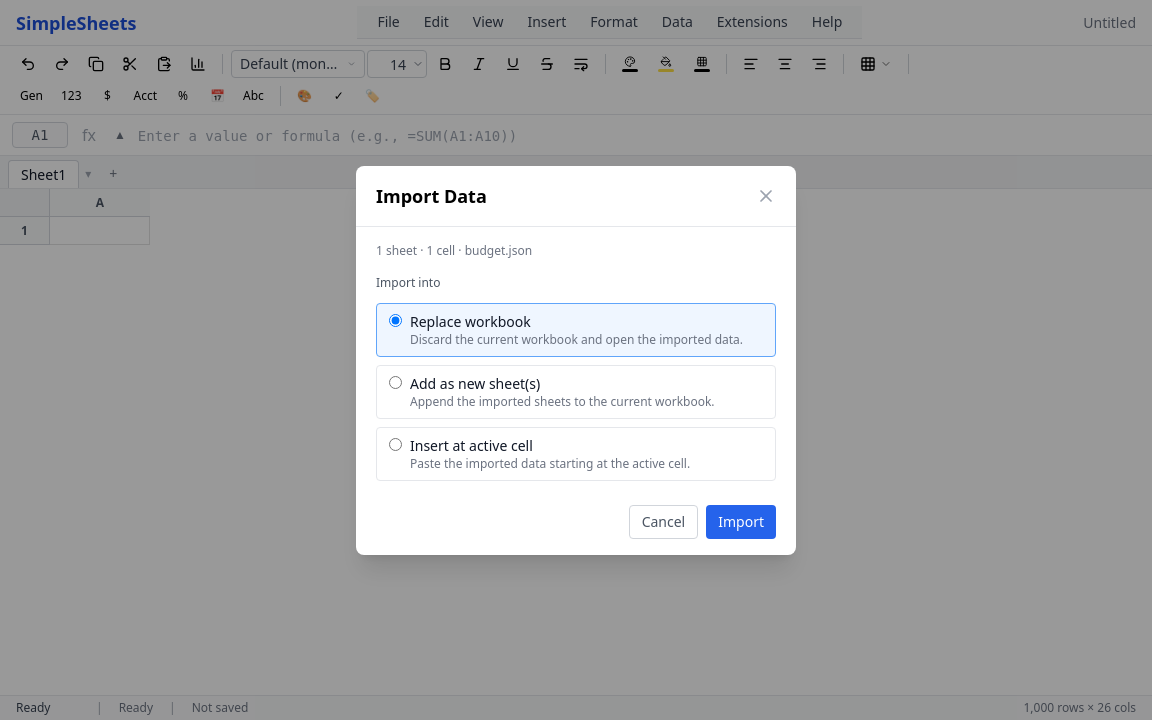
Test: App import scope dialog › replaces the workbook when Replace is chosen
Earlier steps of the test are not shown.
Click the button "Import". click: click(741, 522)
box: [706,504,776,538]
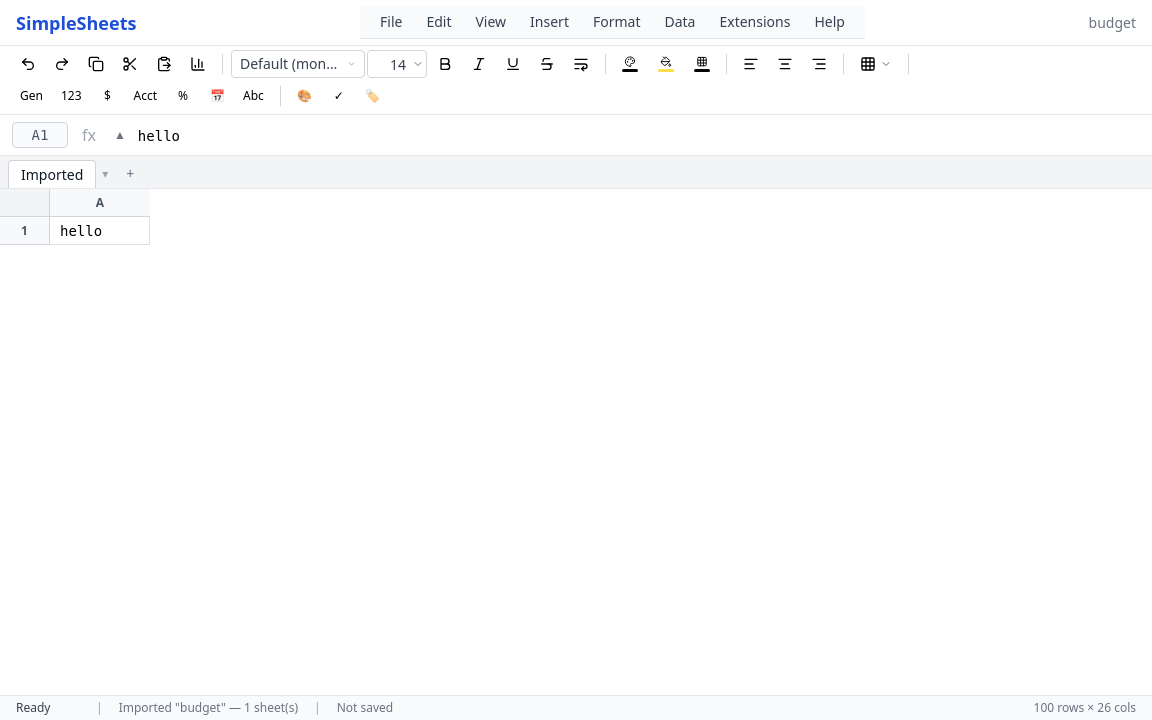
Now the text "budget" is shown, box [1088,12,1136,32]
Now the text with test id "status-message" shows "Imported \"budget\"", box [119,699,298,716]
